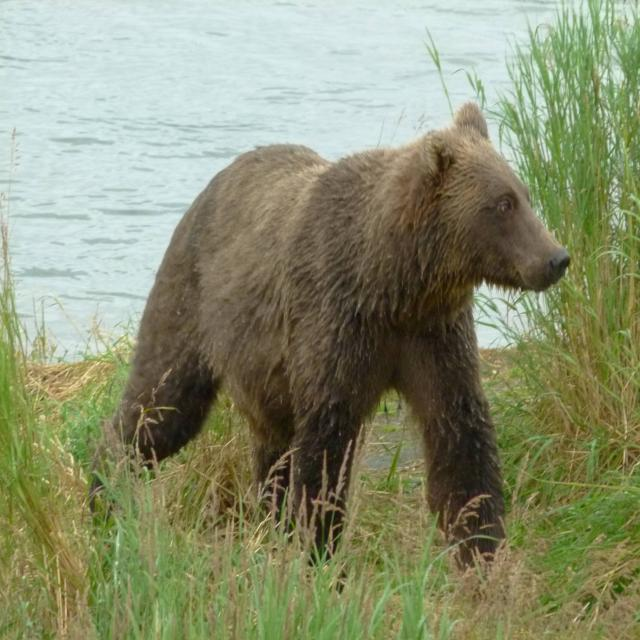bear face: (100, 101, 574, 544)
